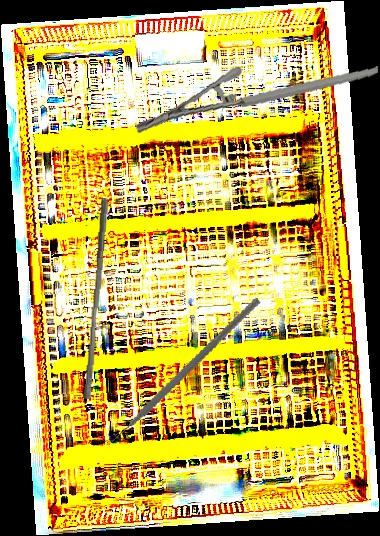Chopper: (92, 266, 262, 474)
Needle Holder: (134, 41, 379, 160)
Pusher: (82, 197, 109, 400)
